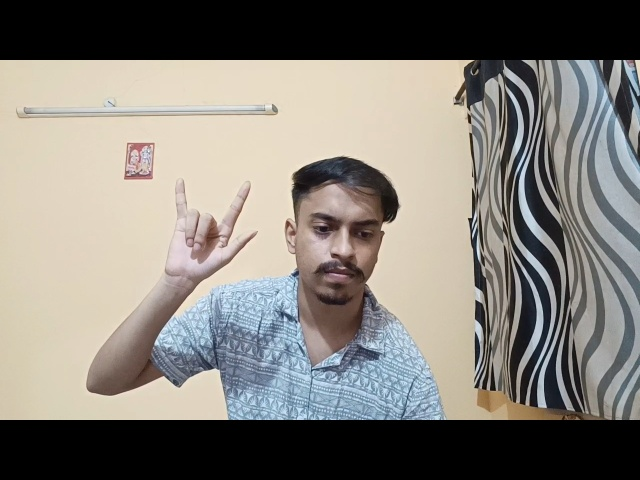ILoveyou: (141, 175, 279, 293)
